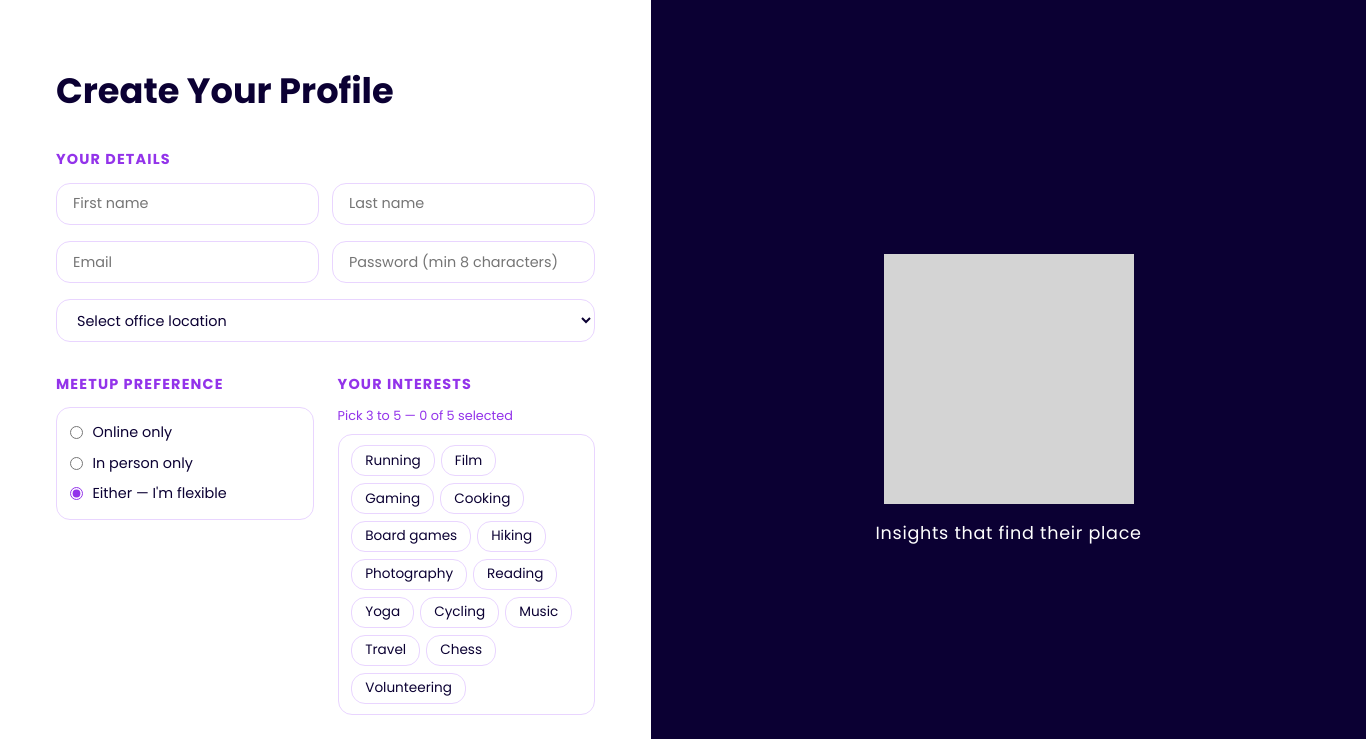
Test case: SignUp component › can deselect an interest
The width and height of the screenshot is (1366, 739).
Click the button "Running" at x=393, y=460, box x1=351 y1=445 x2=435 y2=476
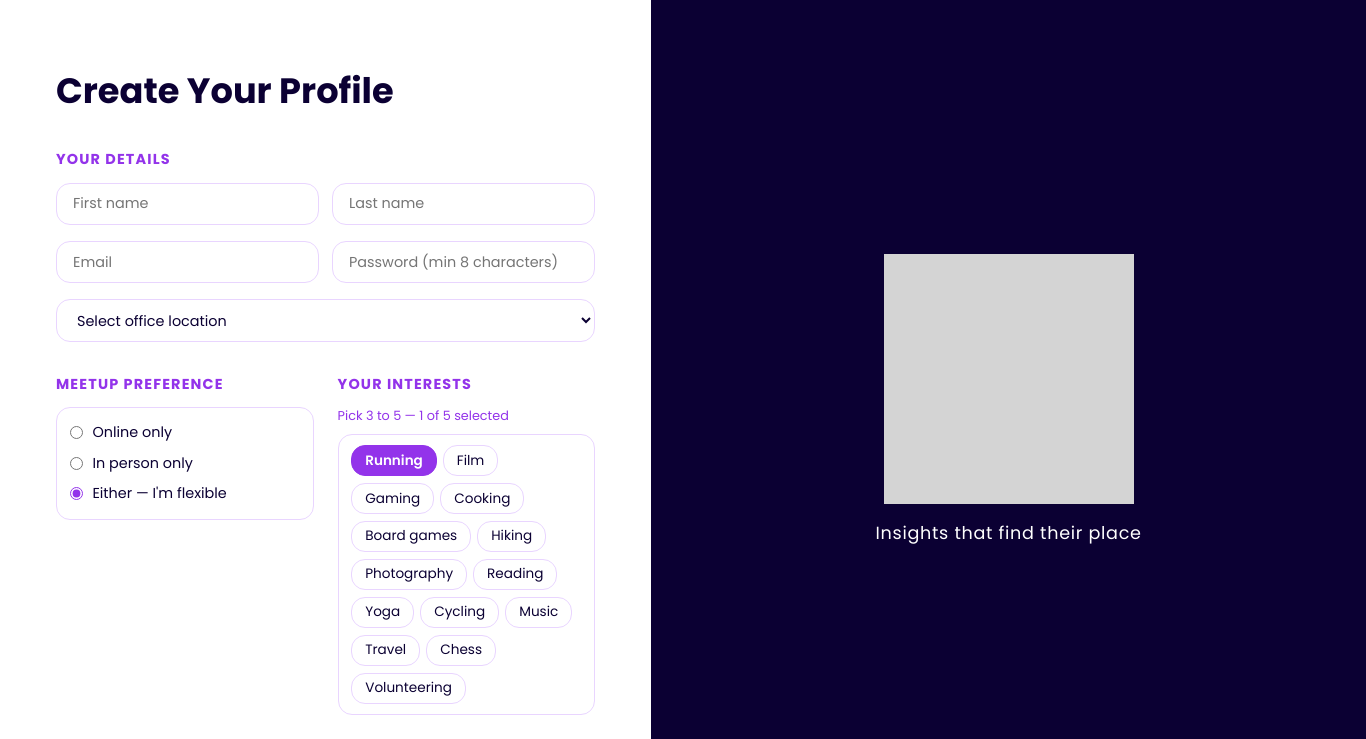
Click the button "Running" at x=394, y=460, box x1=351 y1=445 x2=437 y2=476
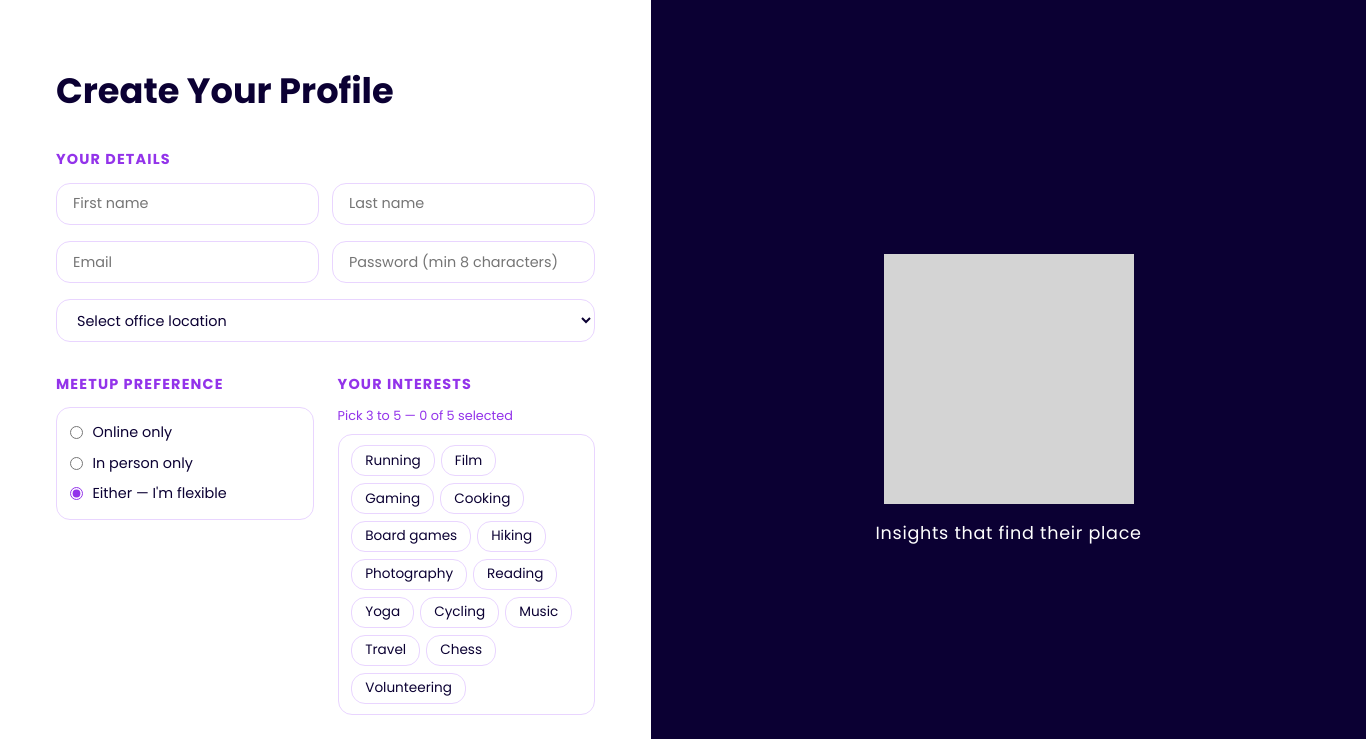
Expected: the text "Pick 3 to 5 — 0 of 5 selected" is shown, x1=338 y1=406 x2=513 y2=424
